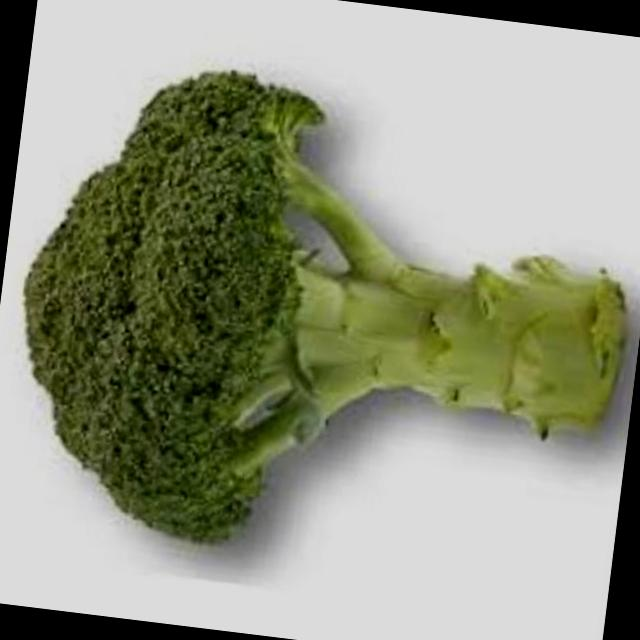Broccoli: (0, 41, 640, 614)
